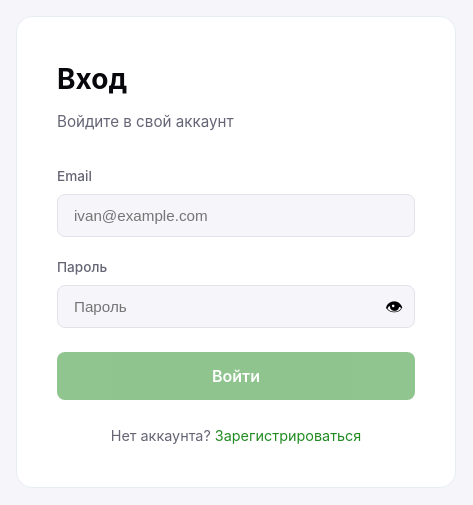
LoginView › submit button enabled with valid input
In the field with id "email": coordinates (236, 216) [57, 194, 415, 237], type "test@test.com"
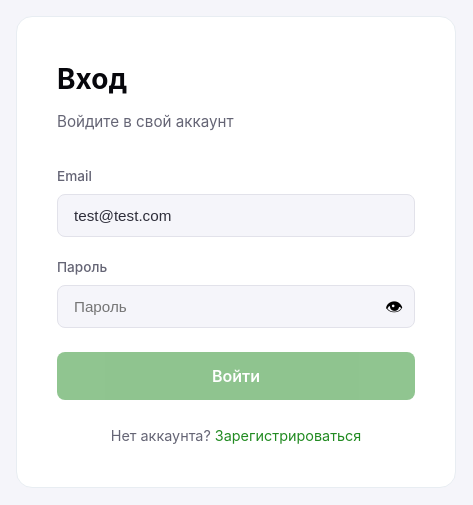
In the password field with placeholder "Пароль": coordinates (236, 307) [57, 285, 415, 328], type "123456"
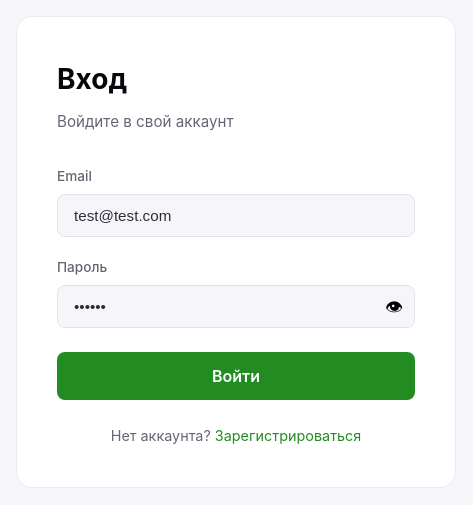
Result: the submit button is enabled at [57, 352, 415, 400]
